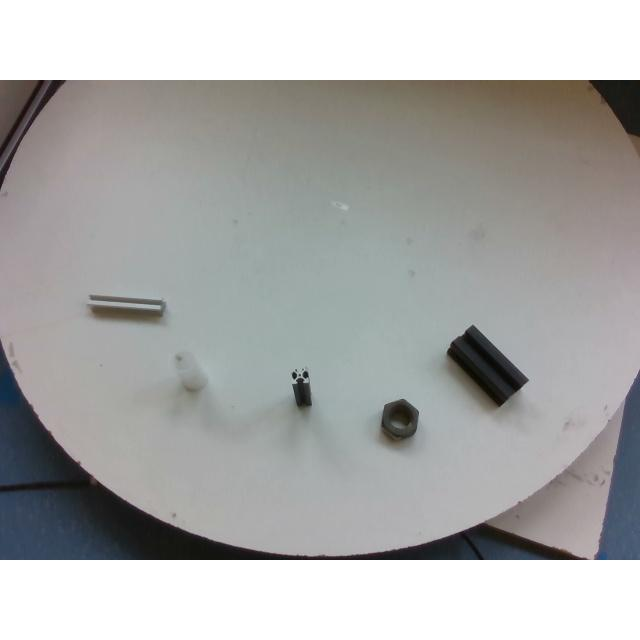F20_20_B: (291, 368, 311, 406)
F20_20_G: (89, 294, 165, 314)
M30: (382, 398, 418, 438)
S40_40_B: (448, 325, 528, 405)
Spacer: (174, 350, 206, 390)
